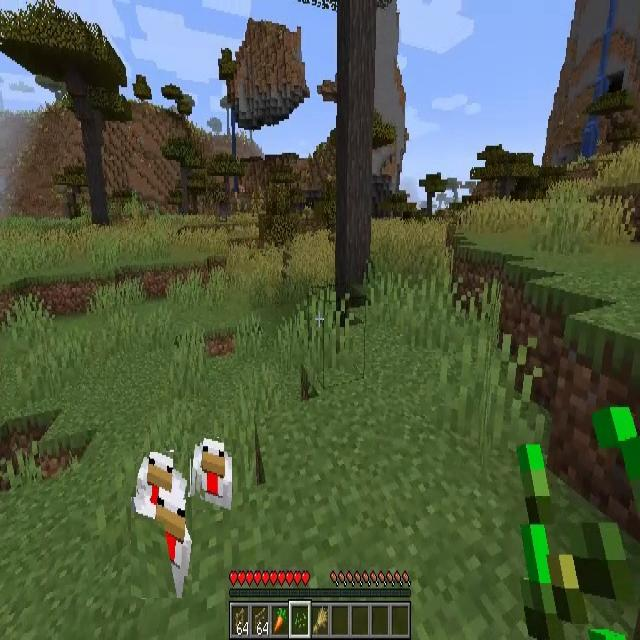duck: (131, 497, 192, 598), (191, 438, 232, 510), (136, 452, 188, 498)
